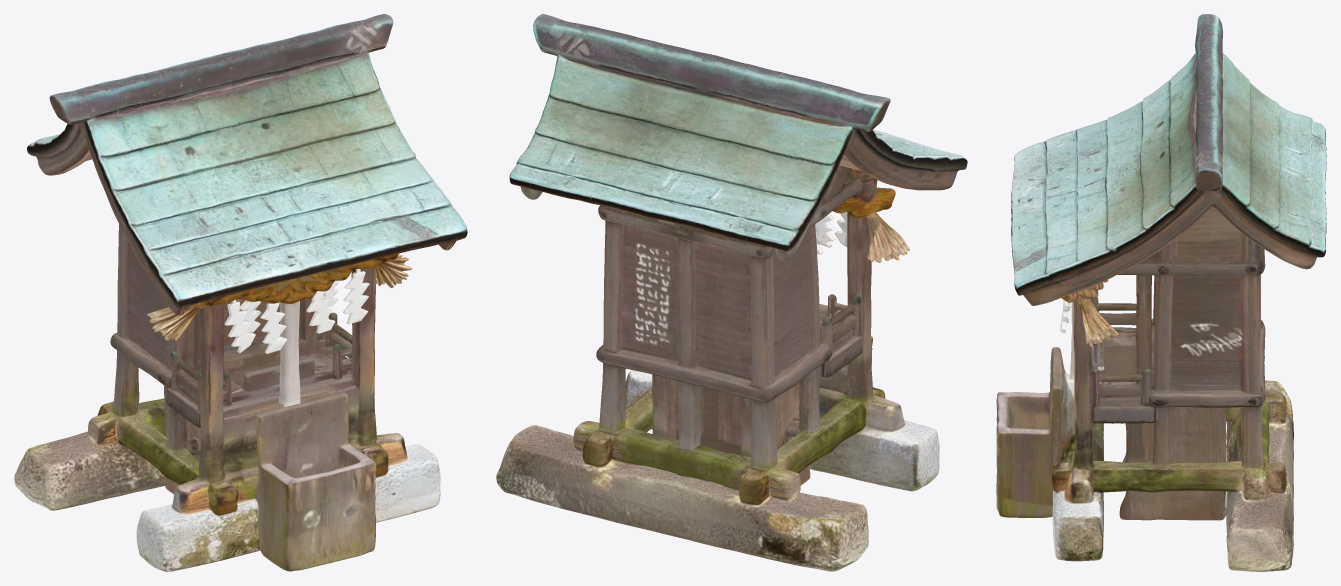
Rendered from hokora_opt.glb.
The picture shows the model from 3 angles, left to right: view 1: azimuth 30°, elevation 25°; view 2: azimuth 150°, elevation 25°; view 3: azimuth 270°, elevation 25°; orthographic projection. The views are drawn at different scales.
Bounding box in the file's own units: 1.56 × 1.9 × 1.39.
Materials: 1 (1 with a texture image).
